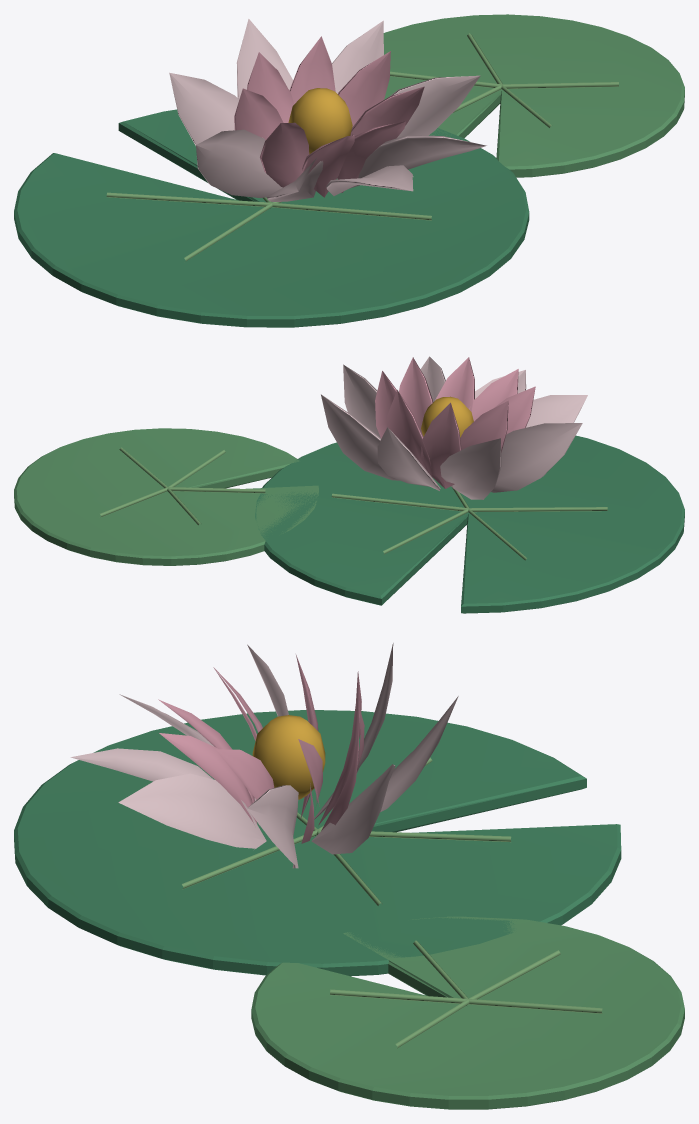
The model's file is nenufar.glb.
3 views of the same model, one above another, from view 1: azimuth 30°, elevation 25°; view 2: azimuth 150°, elevation 25°; view 3: azimuth 270°, elevation 25° (orthographic). The views are drawn at different scales.
Visible parts, largest first — view 1: nenufar_hojas_flotantes_0; view 2: nenufar_hojas_flotantes_0; view 3: nenufar_hojas_flotantes_0.
Part boxes in pixels (left/top/right/bottom): nenufar_hojas_flotantes_0: left=14, top=14, right=684, bottom=327; nenufar_hojas_flotantes_0: left=14, top=356, right=684, bottom=613; nenufar_hojas_flotantes_0: left=14, top=643, right=684, bottom=1109.
Bounding box in the file's own units: 0.7352 × 0.1615 × 0.5355.
